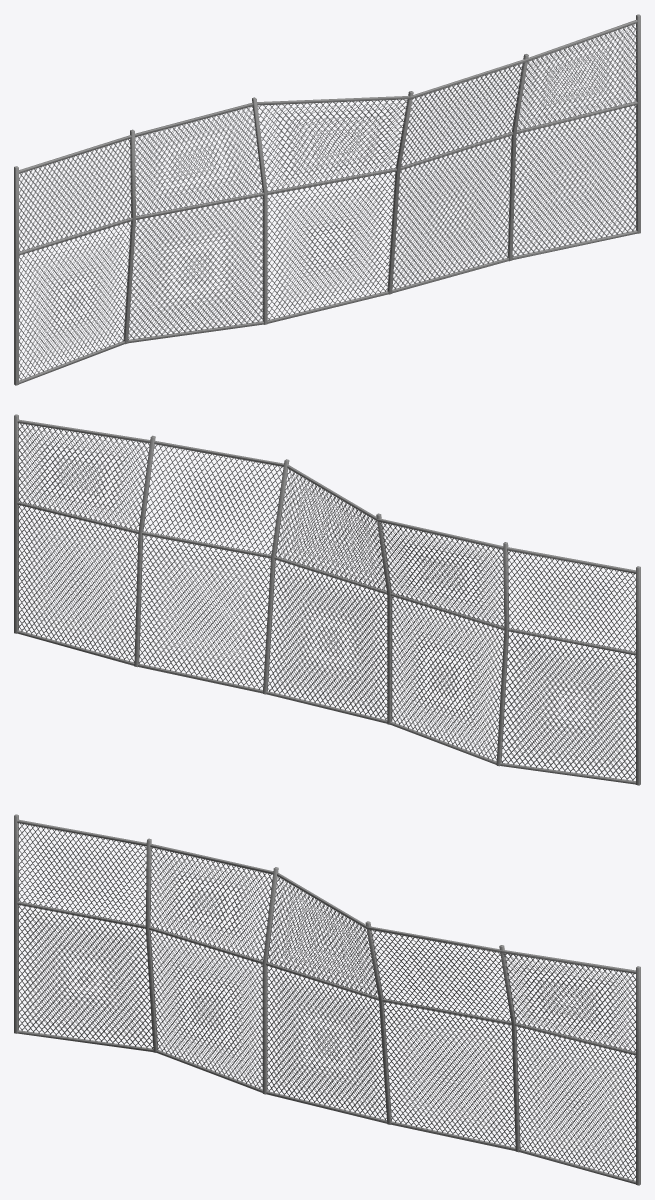
File: FenceMetal01_5.FBX
3 renders of one model, top to bottom at view 1: azimuth 30°, elevation 25°; view 2: azimuth 150°, elevation 25°; view 3: azimuth 330°, elevation 25°, orthographic.
Parts seen in each view (by area): view 1: FenceMetal01; view 2: FenceMetal01; view 3: FenceMetal01.
Part boxes in pixels (x1=…): FenceMetal01: x1=14, y1=14, x2=640, y2=385; FenceMetal01: x1=14, y1=414, x2=640, y2=785; FenceMetal01: x1=14, y1=814, x2=640, y2=1185.
Bounding box in the file's own units: 246 × 81.94 × 26.42.
